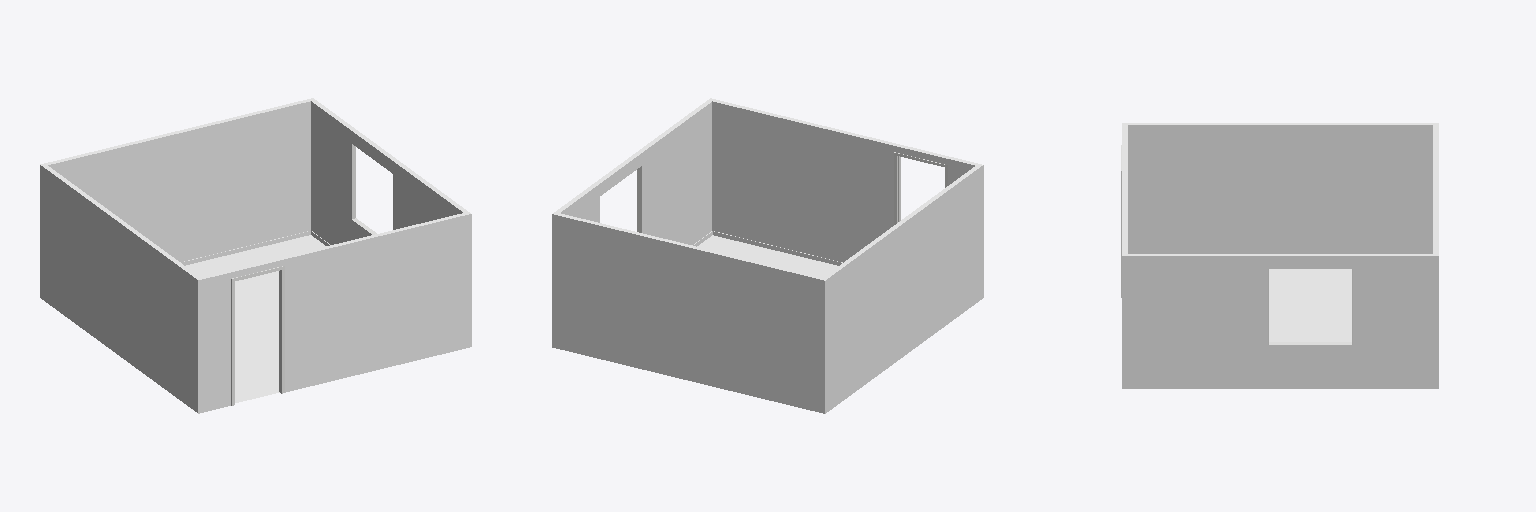
Rendered from square_room.obj.
3 renders of one model, left to right at view 1: azimuth 30°, elevation 25°; view 2: azimuth 150°, elevation 25°; view 3: azimuth 270°, elevation 25°, orthographic.
Parts seen in each view (by area): view 1: square_room; view 2: square_room; view 3: square_room.
Boxes of the visible parts, x1,y1,x2,y2 form: square_room: [40, 98, 471, 413]; square_room: [552, 98, 983, 413]; square_room: [1121, 123, 1438, 388].
Size of the model in its own units: 6.33 by 2.95 by 6.37.